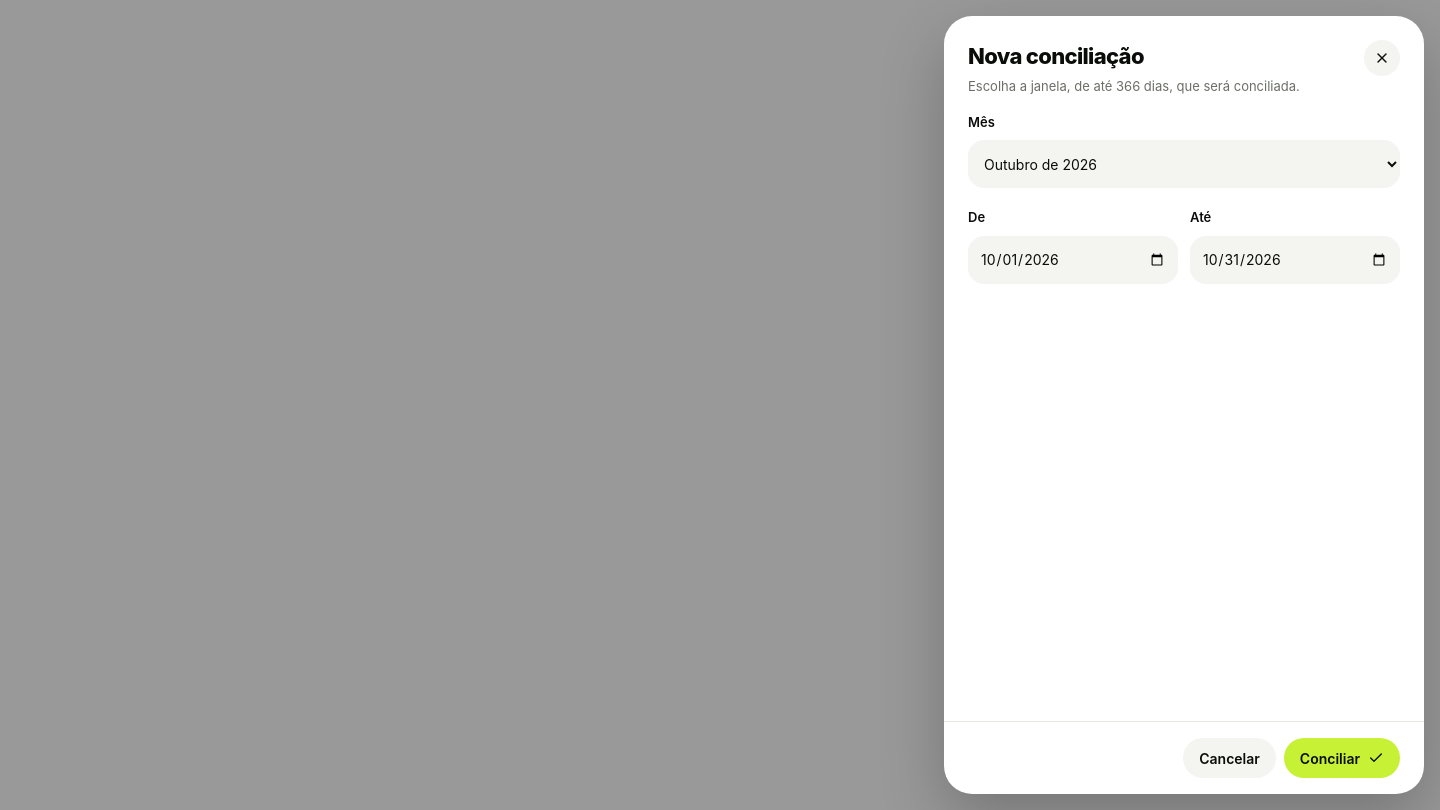
NewRunDrawer › 409 mantém a gaveta aberta com a message da API (REC-07 AC7)
Click the button "Conciliar" at (1342, 758), box [1284,738,1400,778]
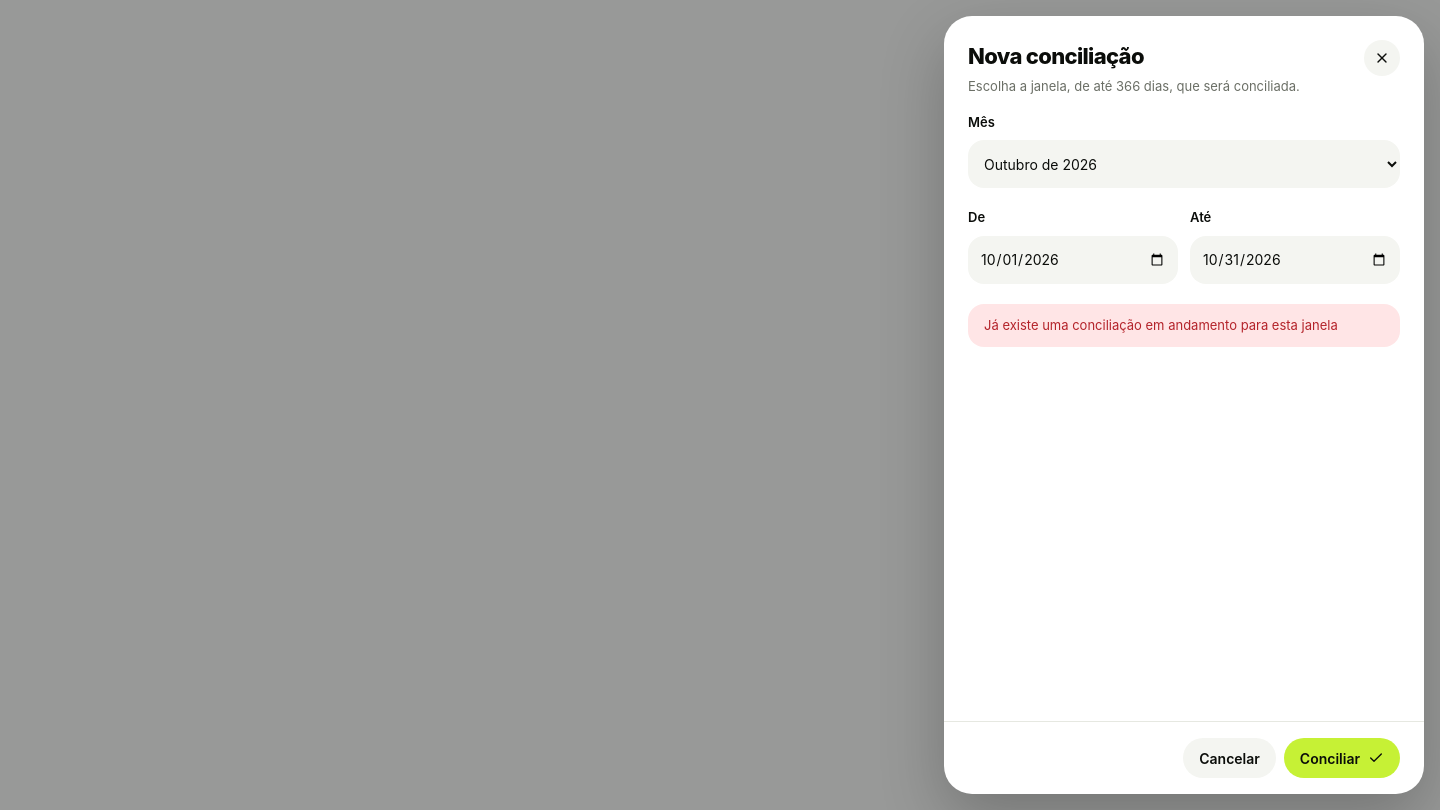
Expected: the dialog "Nova conciliação" is shown, [944,16,1424,794]
Expected: the message reads "Já existe uma conciliação em andamento para esta janela", [984,316,1338,332]
